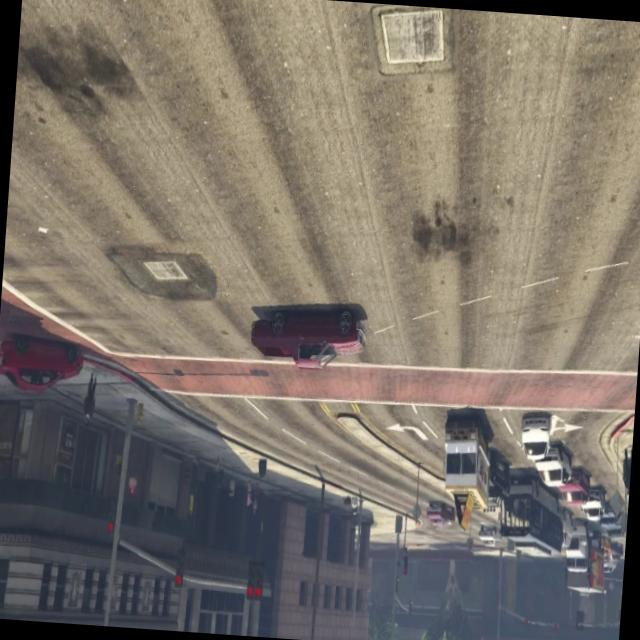Red-Signal: (240, 554, 268, 604), (100, 486, 120, 544), (168, 547, 188, 597)
